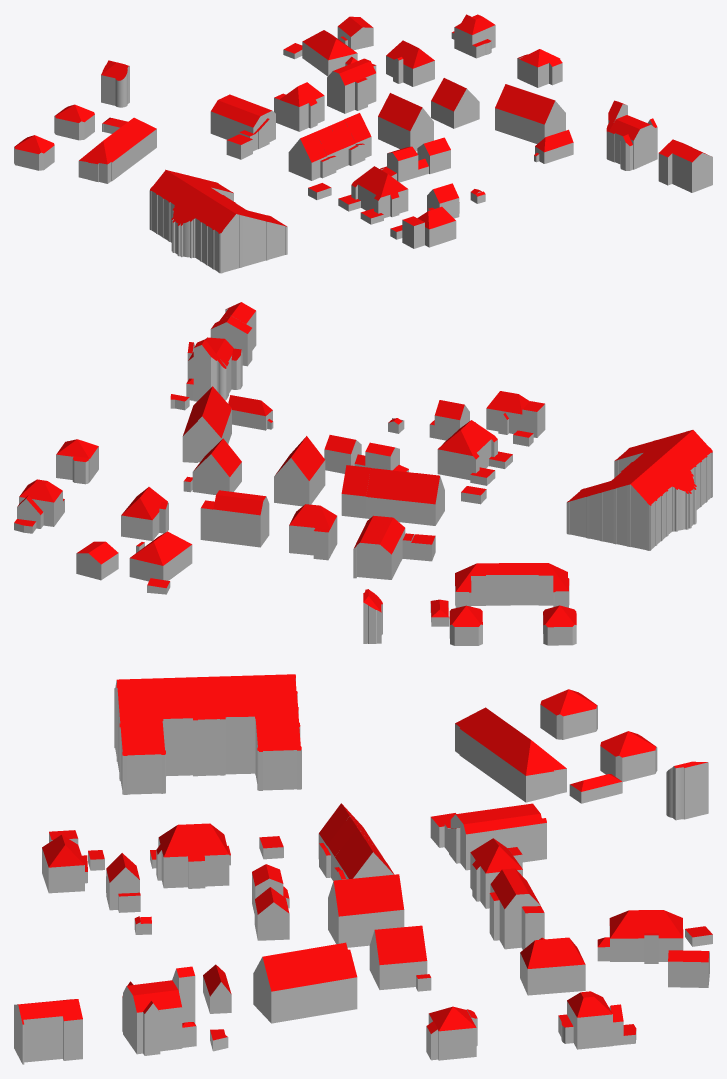
3 views of the same model, one above another, from view 1: azimuth 30°, elevation 25°; view 2: azimuth 150°, elevation 25°; view 3: azimuth 270°, elevation 25° (orthographic). The views are drawn at different scales.
Size of the model in its own units: 204 by 21.32 by 173.
